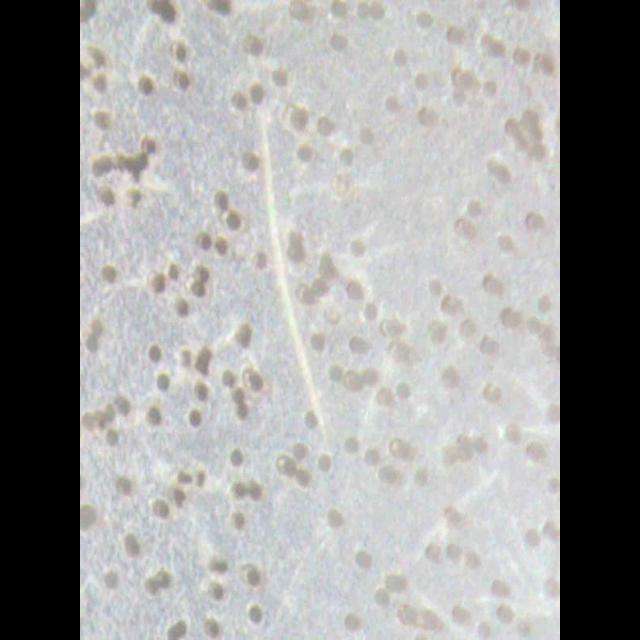Fibre: (246, 96, 334, 472)
